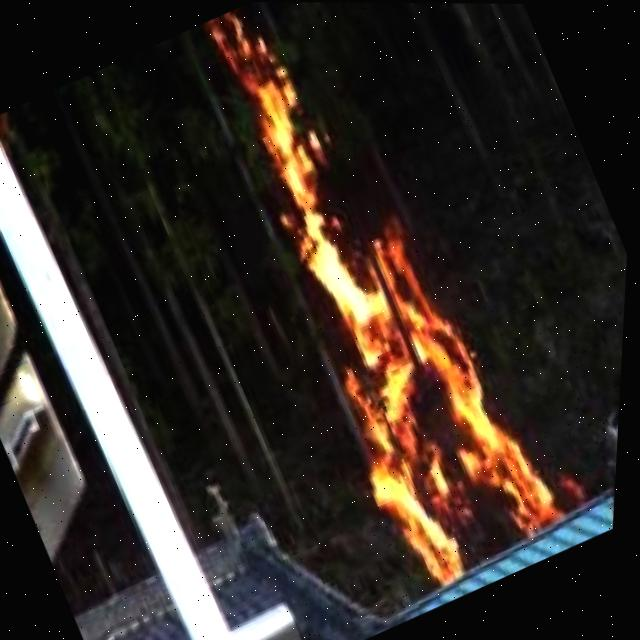Fire: (145, 1, 597, 605)
